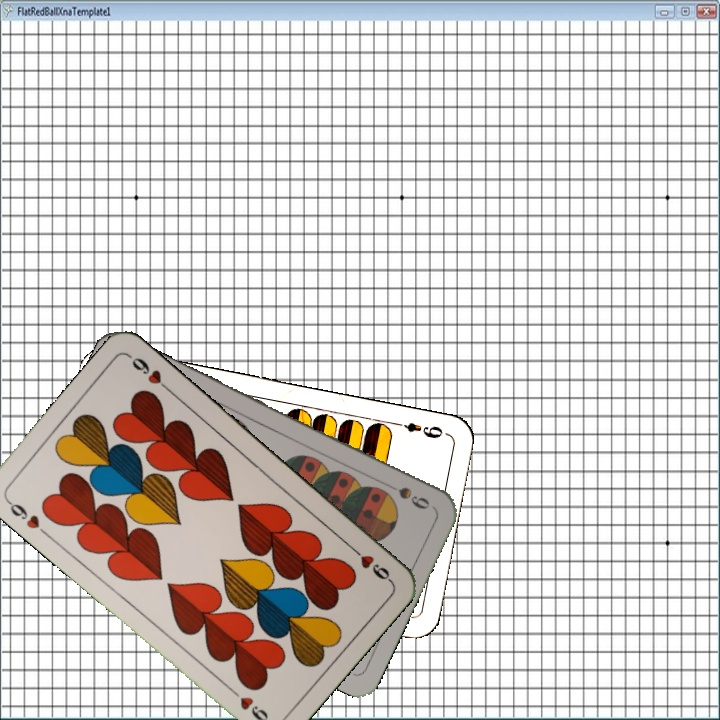E9: (390, 418, 446, 441)
H9: (345, 541, 394, 585), (2, 495, 42, 532)
S9: (379, 478, 433, 512)
